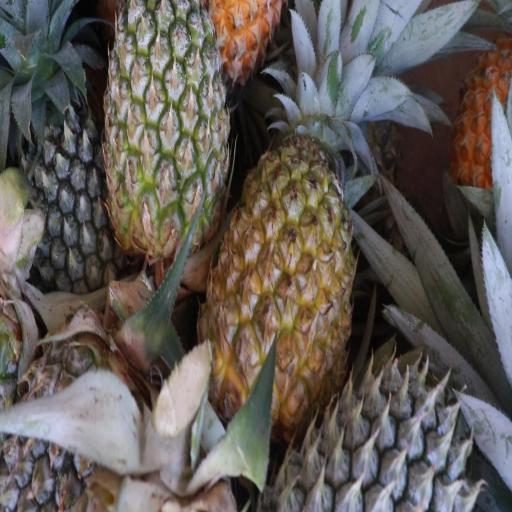------------------------------: (100, 0, 226, 246)
Pineapple - v8 v1: (208, 130, 358, 415), (447, 46, 512, 206)
